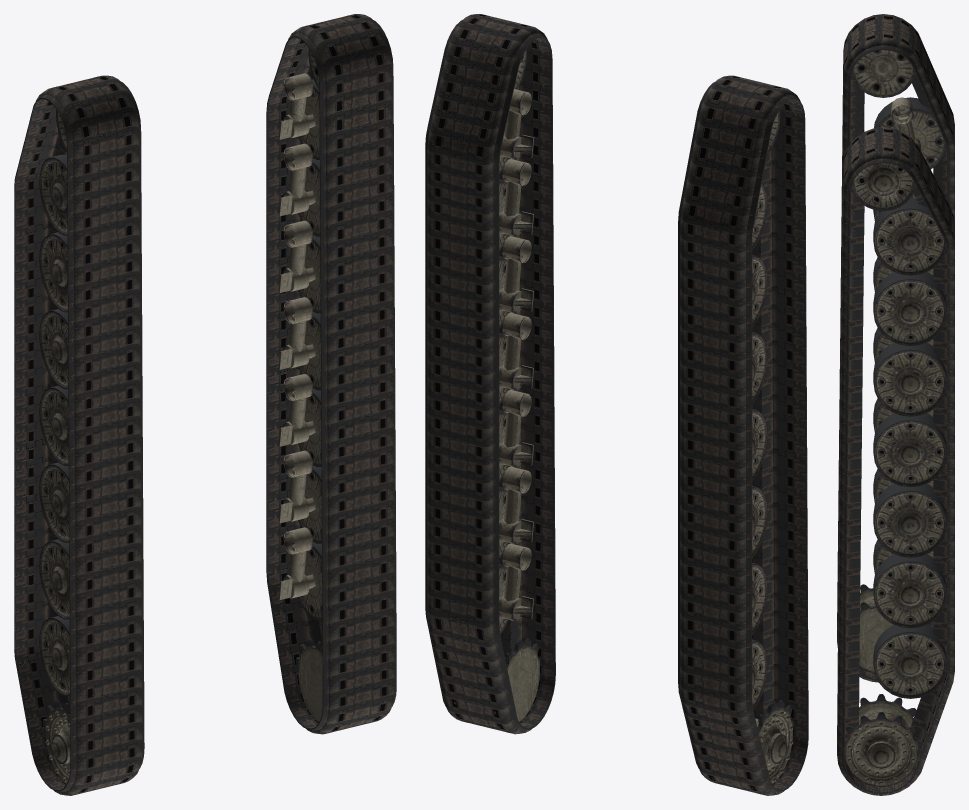
Rendered from Chassis.glb.
3 views of the same model, side by side, from view 1: azimuth 30°, elevation 25°; view 2: azimuth 150°, elevation 25°; view 3: azimuth 270°, elevation 25° (orthographic). The views are drawn at different scales.
Parts seen in each view (by area): view 1: set_1_group_0, set_3_group_0, set_5_group_0, set_4_group_0, set_0_group_0, set_2_group_0; view 2: set_1_group_0, set_3_group_0, set_5_group_0, set_4_group_0, set_0_group_0, set_2_group_0; view 3: set_5_group_0, set_3_group_0, set_4_group_0, set_1_group_0, set_2_group_0.
Boxes of the visible parts, left/top/right/bottom form: set_1_group_0: left=14, top=75, right=144, bottom=795; set_3_group_0: left=266, top=14, right=396, bottom=734; set_5_group_0: left=278, top=49, right=383, bottom=732; set_4_group_0: left=39, top=110, right=131, bottom=794; set_0_group_0: left=69, top=517, right=143, bottom=612; set_2_group_0: left=321, top=442, right=395, bottom=537; set_1_group_0: left=678, top=75, right=808, bottom=795; set_3_group_0: left=425, top=14, right=555, bottom=734; set_5_group_0: left=454, top=49, right=539, bottom=732; set_4_group_0: left=711, top=110, right=793, bottom=794; set_0_group_0: left=752, top=498, right=807, bottom=583; set_2_group_0: left=499, top=423, right=554, bottom=507; set_5_group_0: left=845, top=163, right=946, bottom=786; set_3_group_0: left=837, top=127, right=954, bottom=795; set_4_group_0: left=851, top=50, right=946, bottom=672; set_1_group_0: left=837, top=14, right=954, bottom=682; set_2_group_0: left=838, top=519, right=860, bottom=606.
Size of the model in its own units: 3.2 by 6.57 by 1.09.
Materials: 6 (6 with a texture image).
